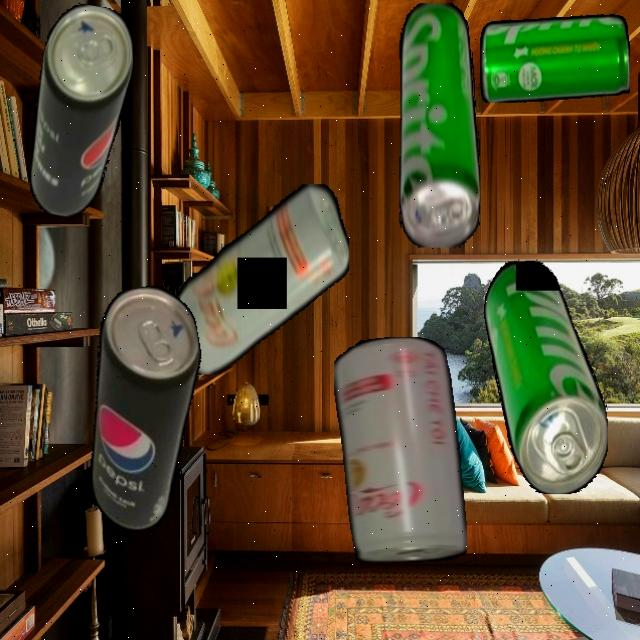debris: (61, 280, 230, 536), (170, 183, 349, 374), (334, 336, 467, 564), (483, 259, 608, 494), (17, 0, 142, 223), (398, 2, 480, 248), (479, 13, 630, 103)
